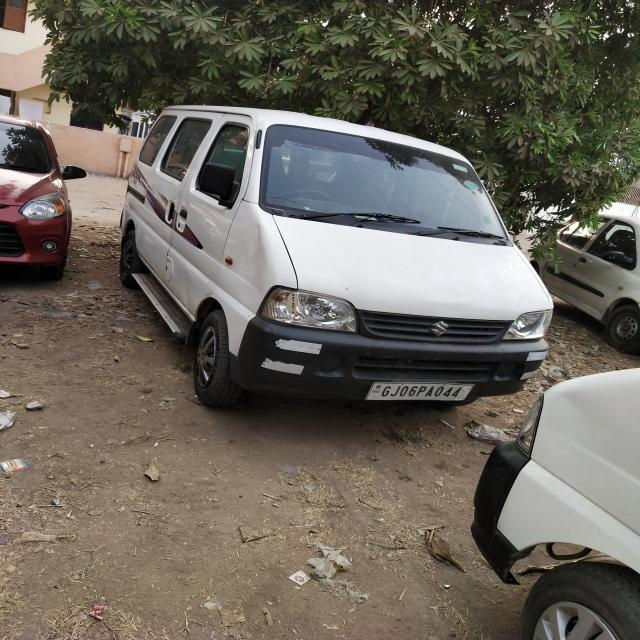Auto: (472, 369, 640, 640), (542, 216, 640, 349), (0, 116, 72, 274)
Car: (0, 115, 85, 280)
Traveller: (120, 105, 553, 405)
